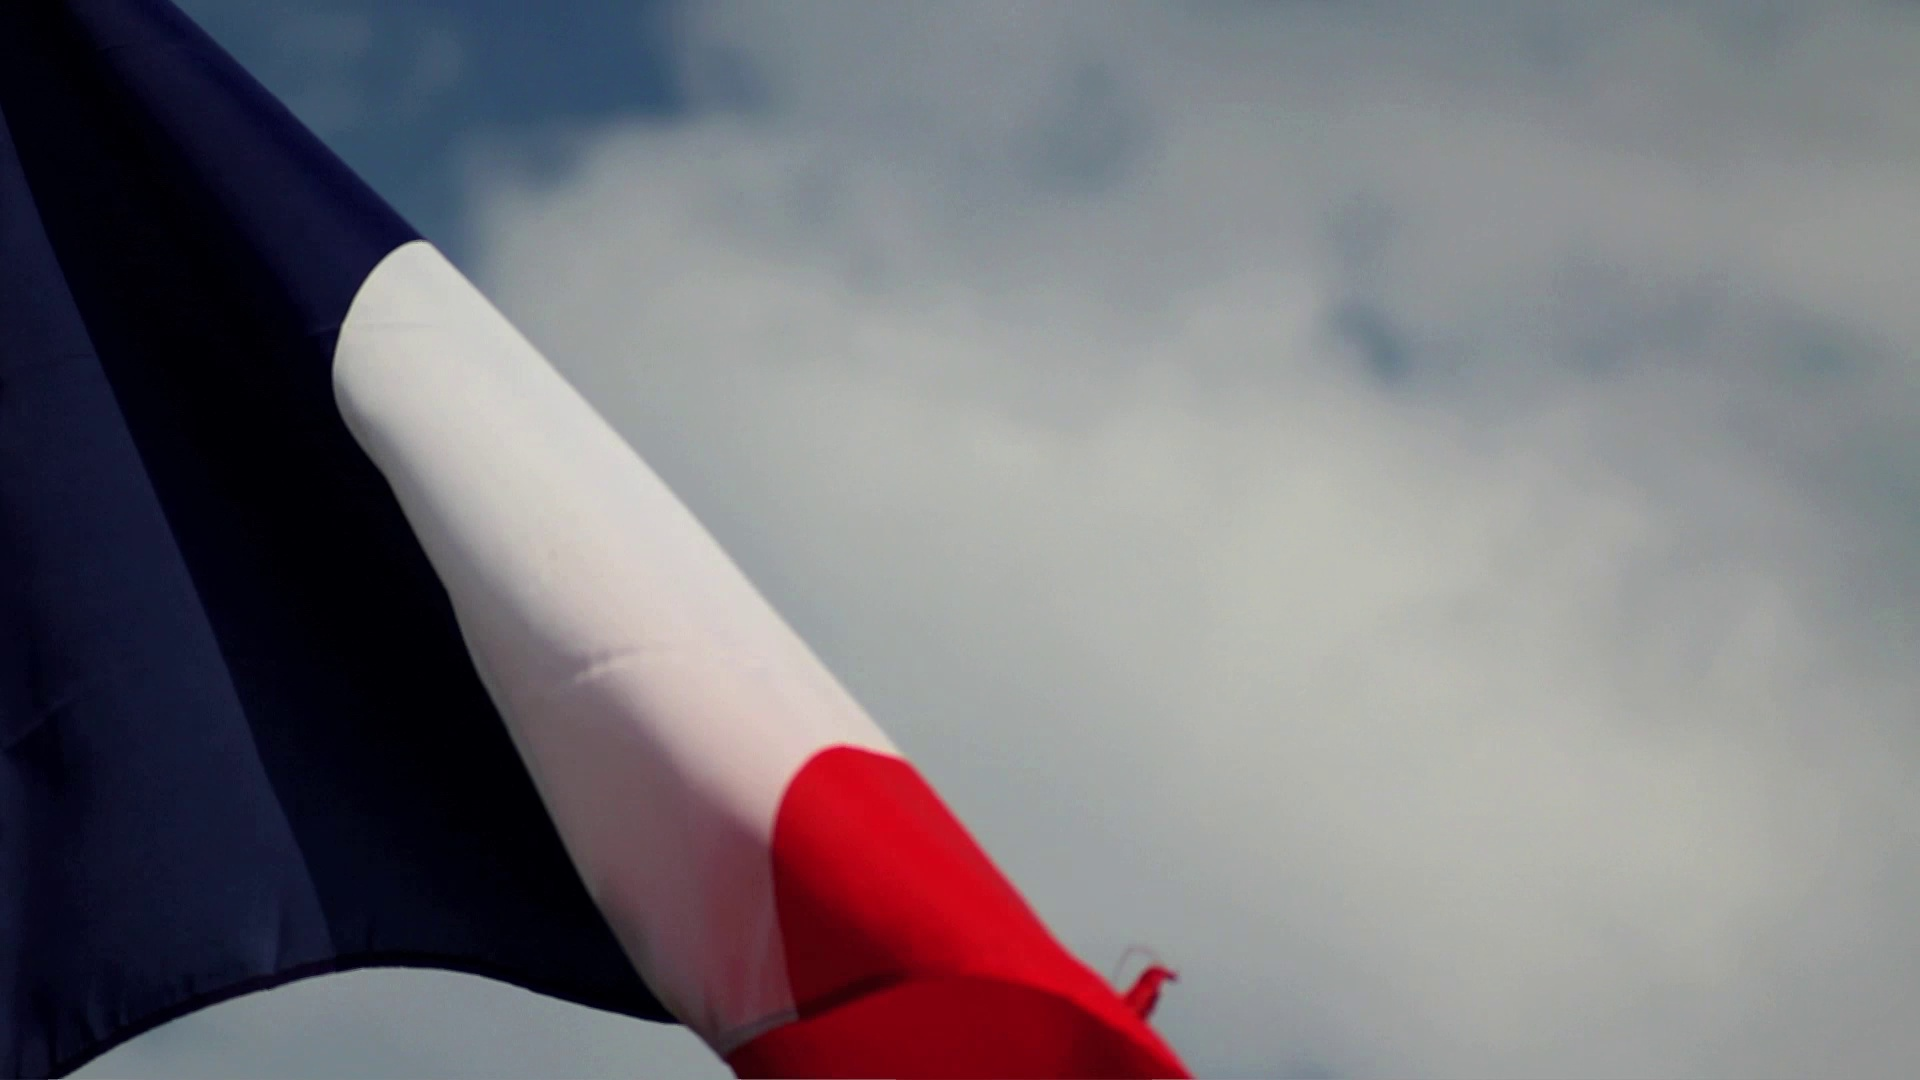French Flag: (1, 1, 1193, 1080)
